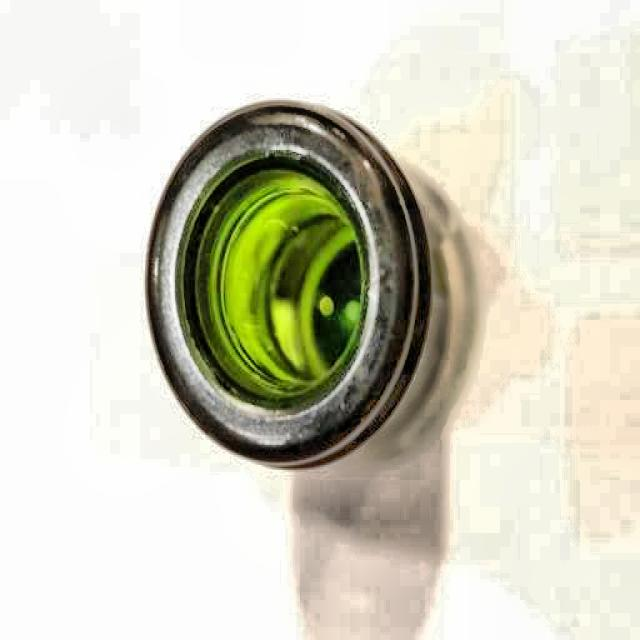glass: (142, 95, 436, 470)
